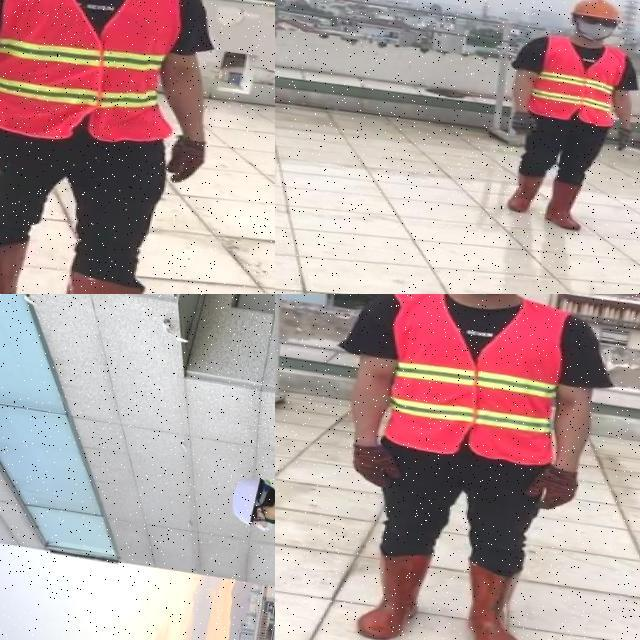boots: (355, 546, 437, 640), (457, 558, 536, 640), (541, 178, 591, 232), (0, 234, 34, 294), (506, 170, 544, 217)
helmet: (228, 470, 265, 532), (568, 0, 625, 22)
vest: (373, 294, 572, 469), (0, 0, 195, 155), (526, 34, 628, 128)
